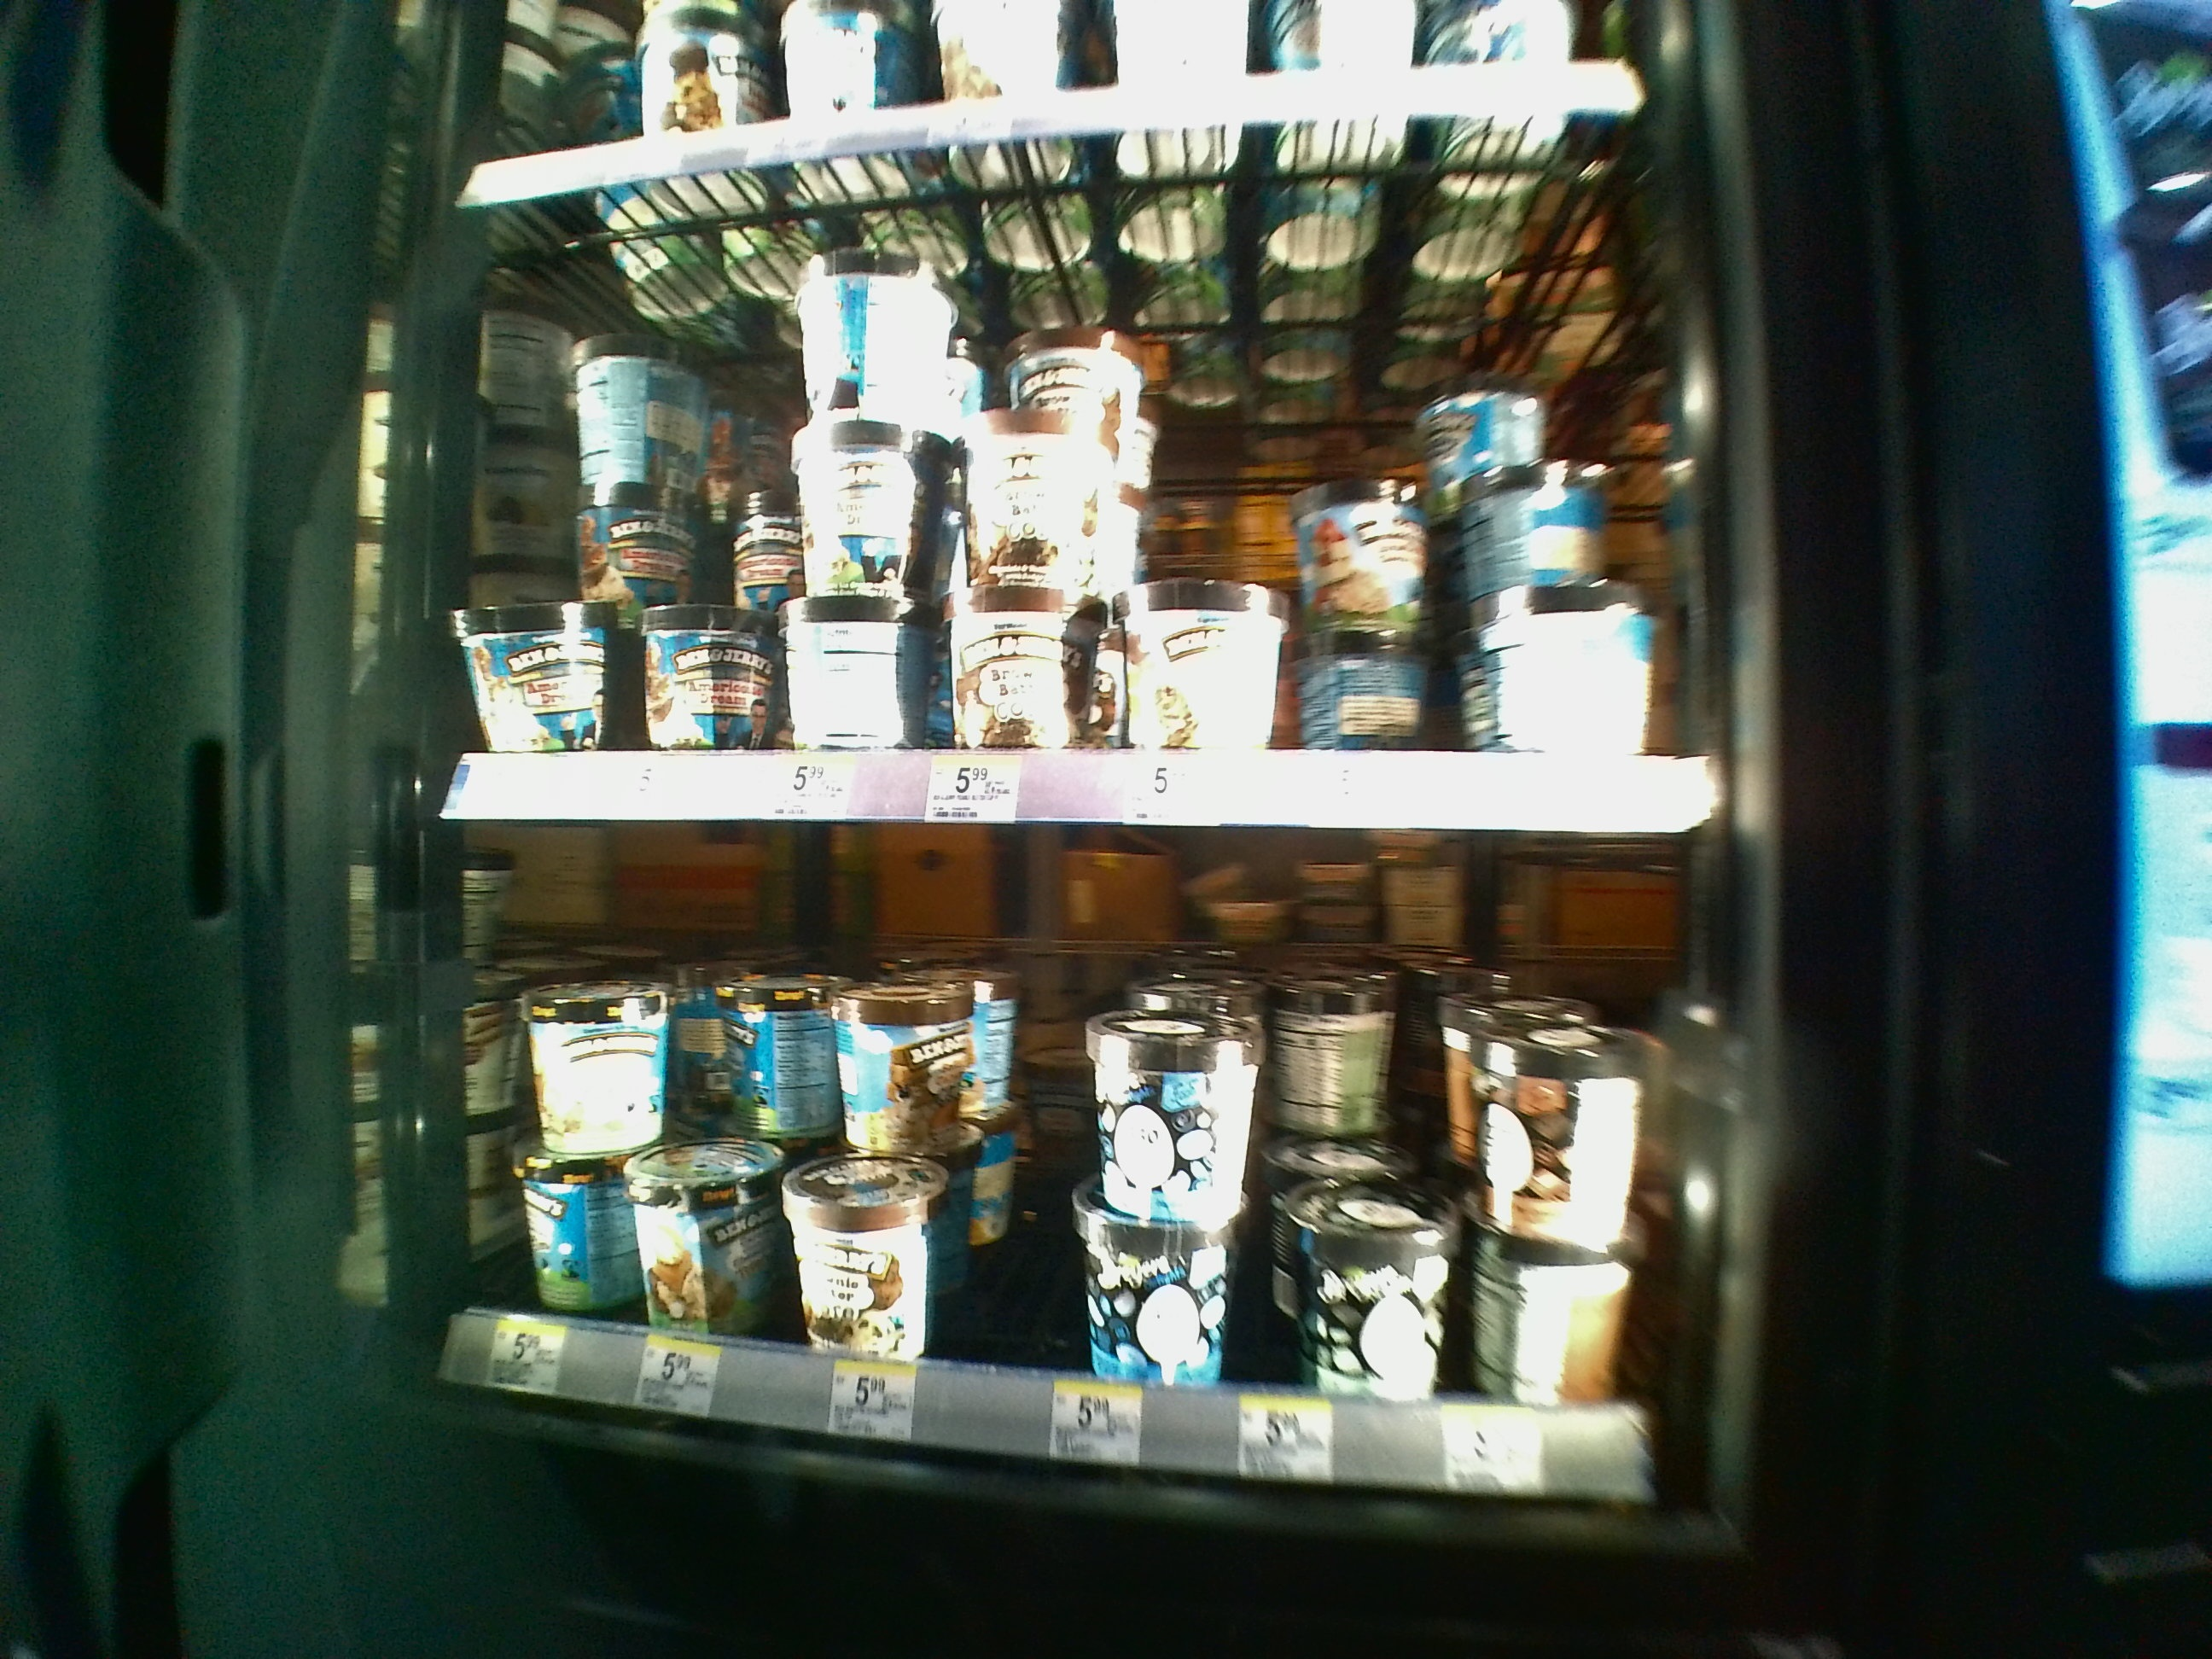shelf: (449, 842, 1703, 1514), (444, 211, 1700, 819)
